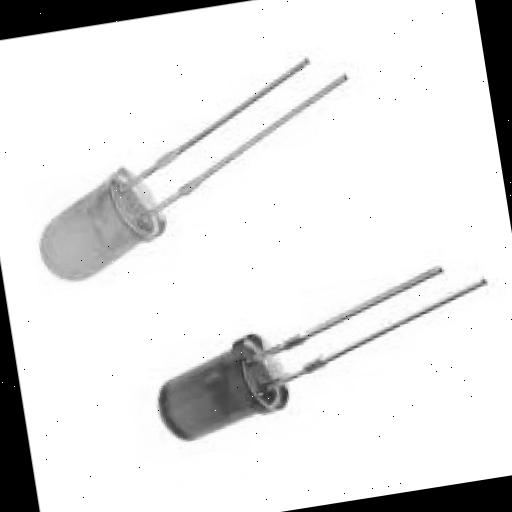LED: (79, 203, 512, 500), (0, 30, 407, 314)
